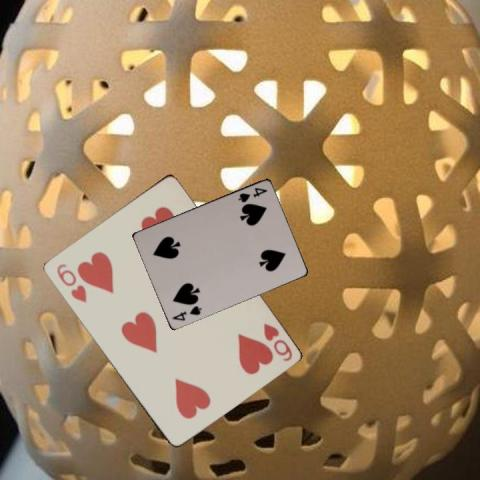4s: (235, 184, 269, 204), (170, 303, 204, 322)
6h: (53, 260, 88, 305), (260, 320, 293, 363)
